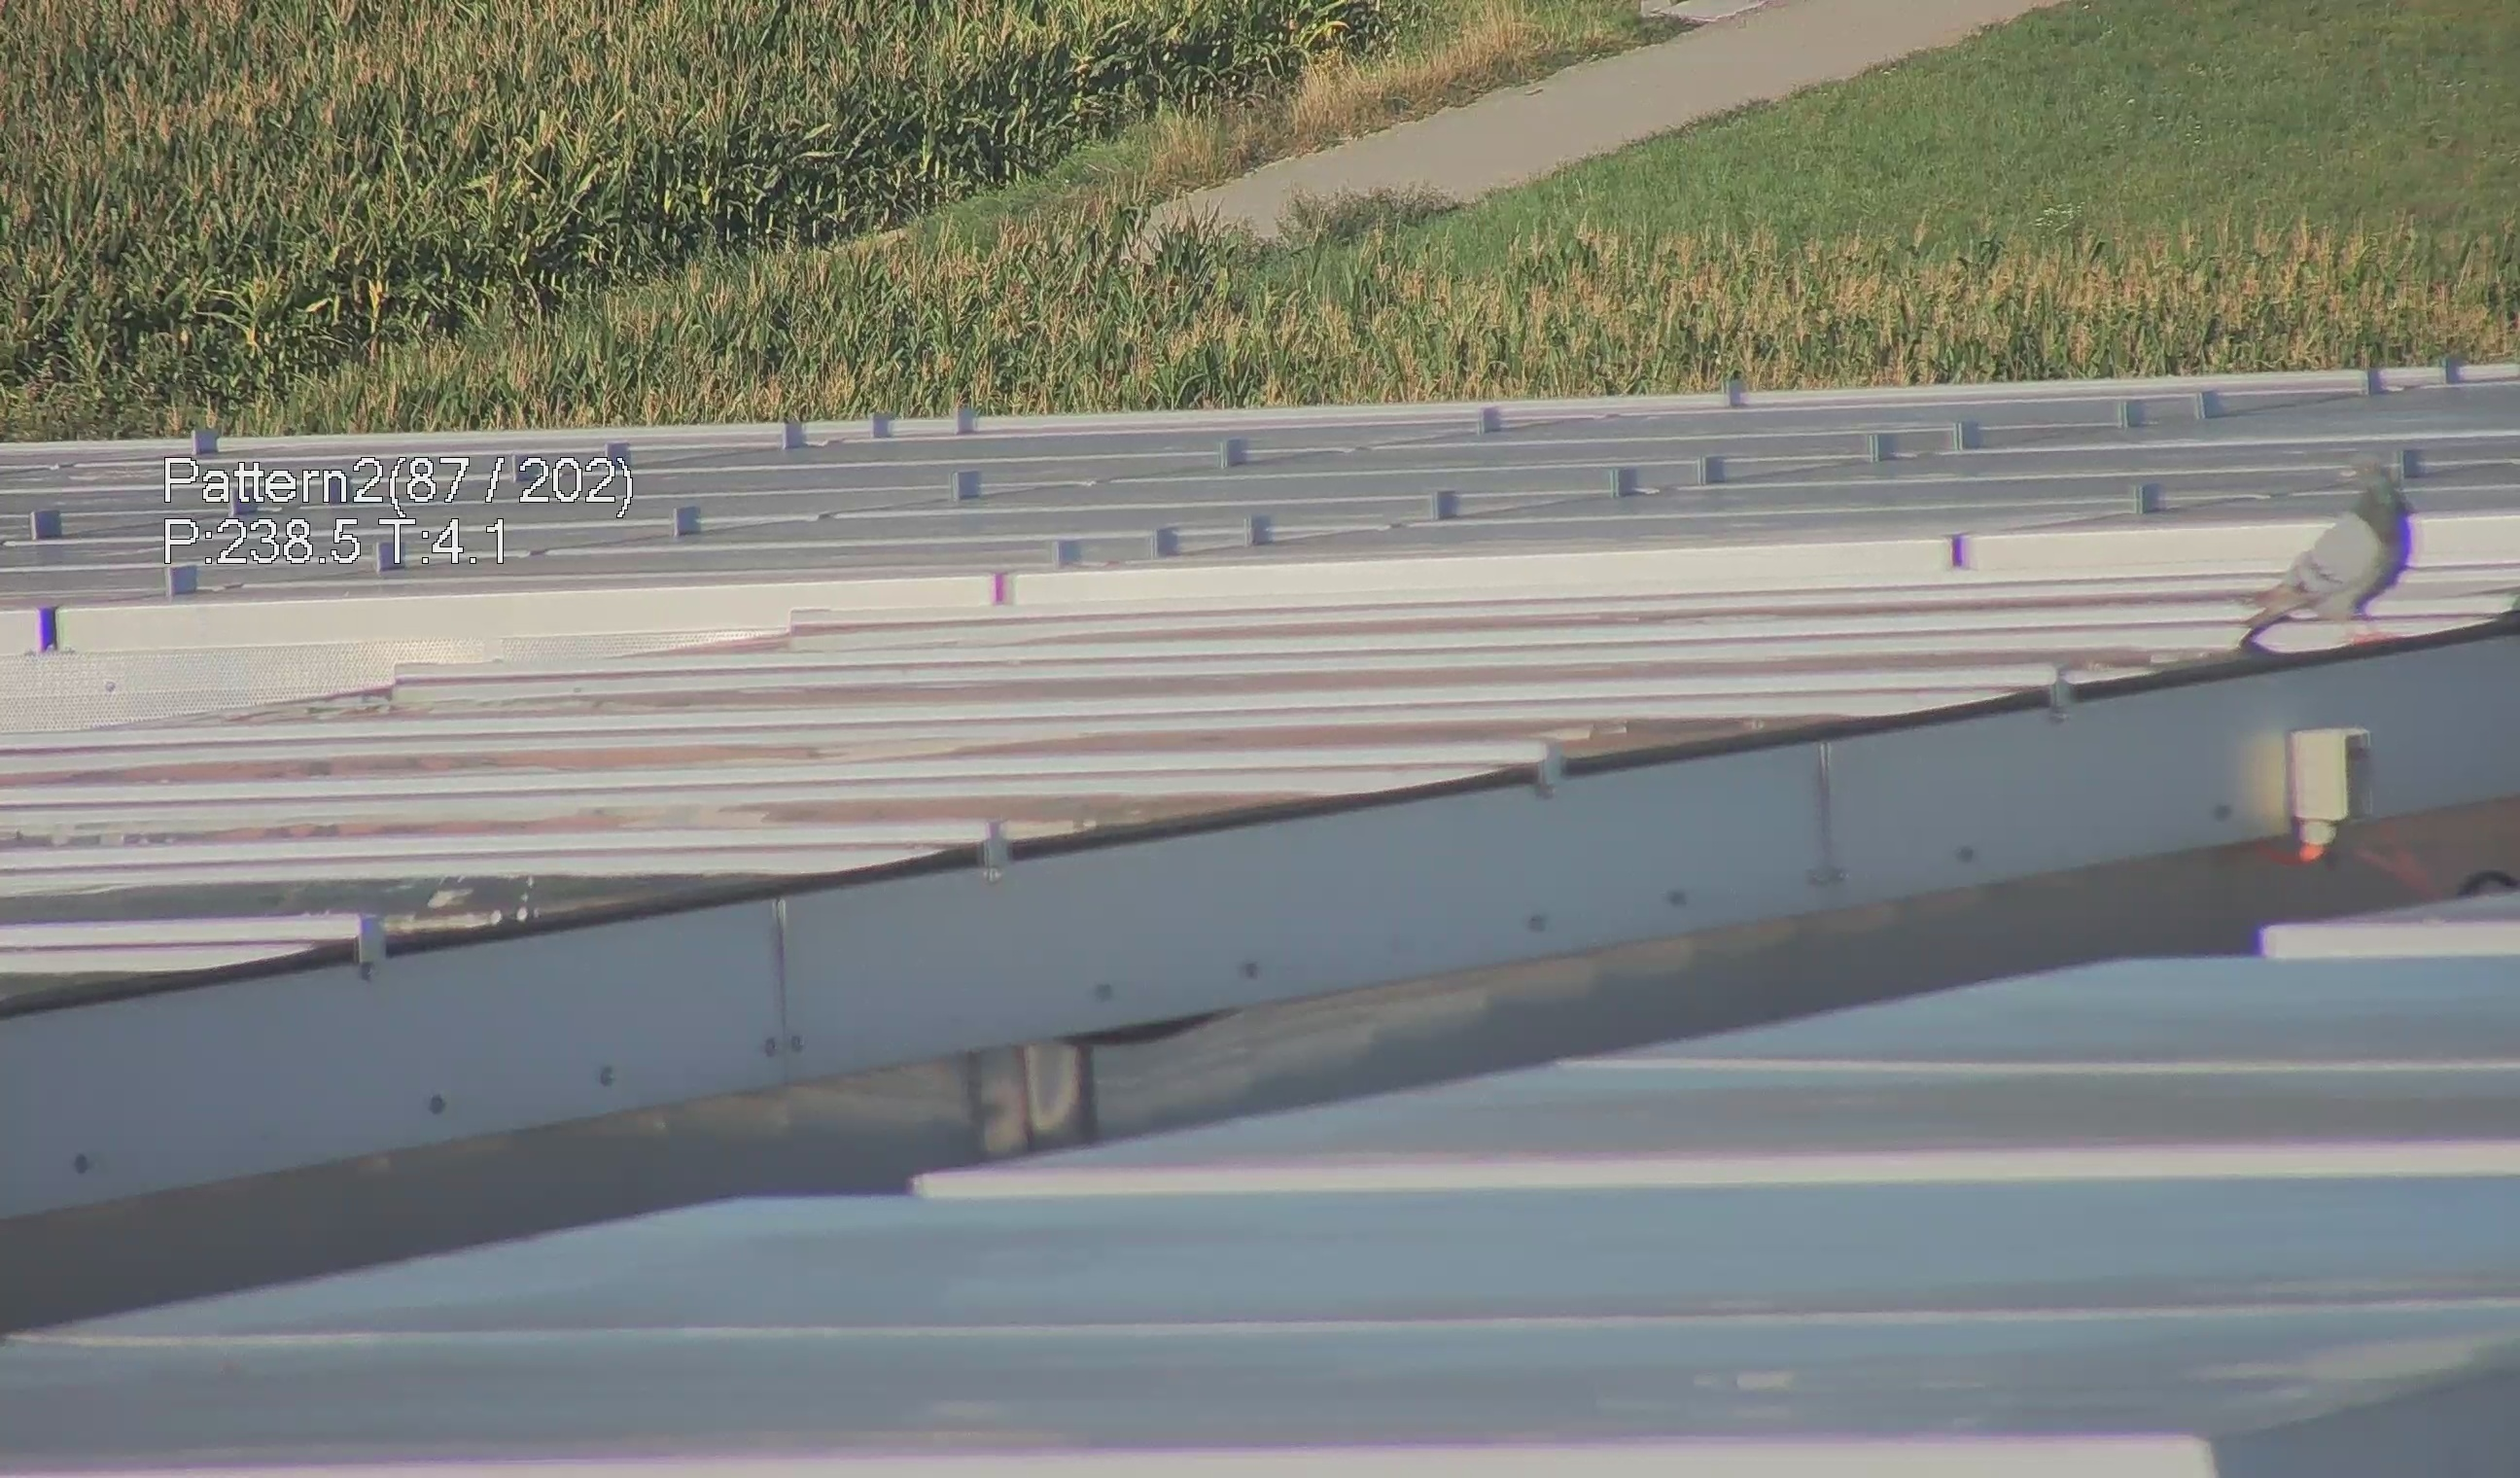Pigeon: (2242, 457, 2429, 655)
